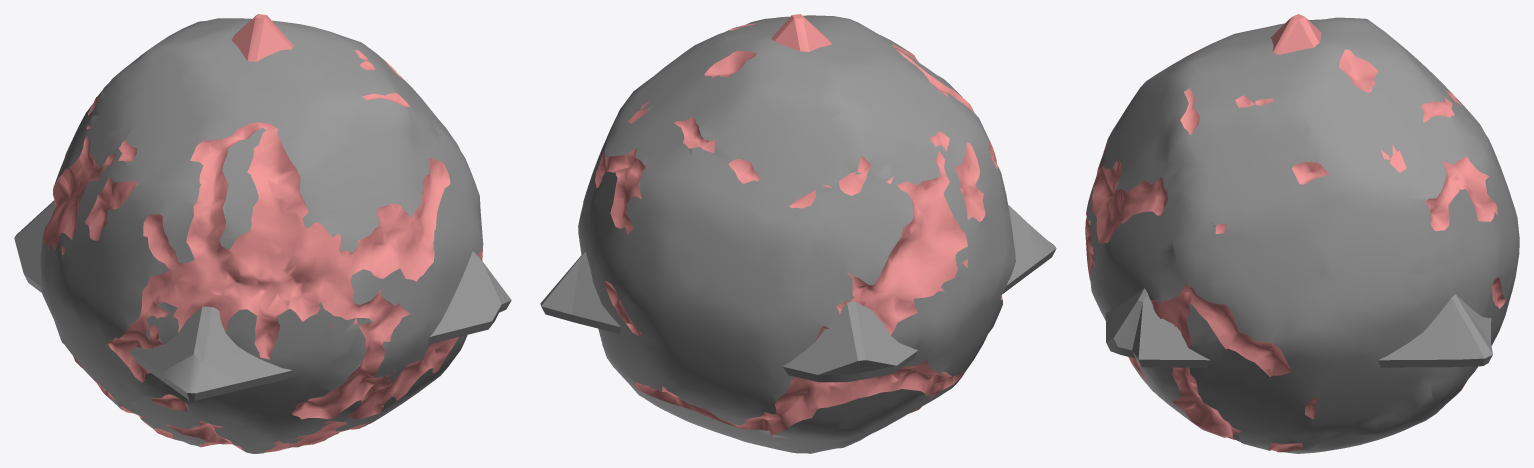
File: Desert.fbx
3 renders of one model, left to right at view 1: azimuth 30°, elevation 25°; view 2: azimuth 150°, elevation 25°; view 3: azimuth 270°, elevation 25°, orthographic. The views are drawn at different scales.
Parts seen in each view (by area): view 1: SM_StoneBall, SM_PyramidProp; view 2: SM_StoneBall, SM_PyramidProp; view 3: SM_StoneBall, SM_PyramidProp.
Boxes of the visible parts, x1,y1,x2,y2 form: SM_StoneBall: [40, 18, 483, 453]; SM_PyramidProp: [14, 14, 511, 400]; SM_StoneBall: [578, 15, 1015, 453]; SM_PyramidProp: [540, 14, 1056, 382]; SM_StoneBall: [1085, 17, 1519, 453]; SM_PyramidProp: [1105, 14, 1492, 367].
Size of the model in its own units: 804 by 834 by 795.
